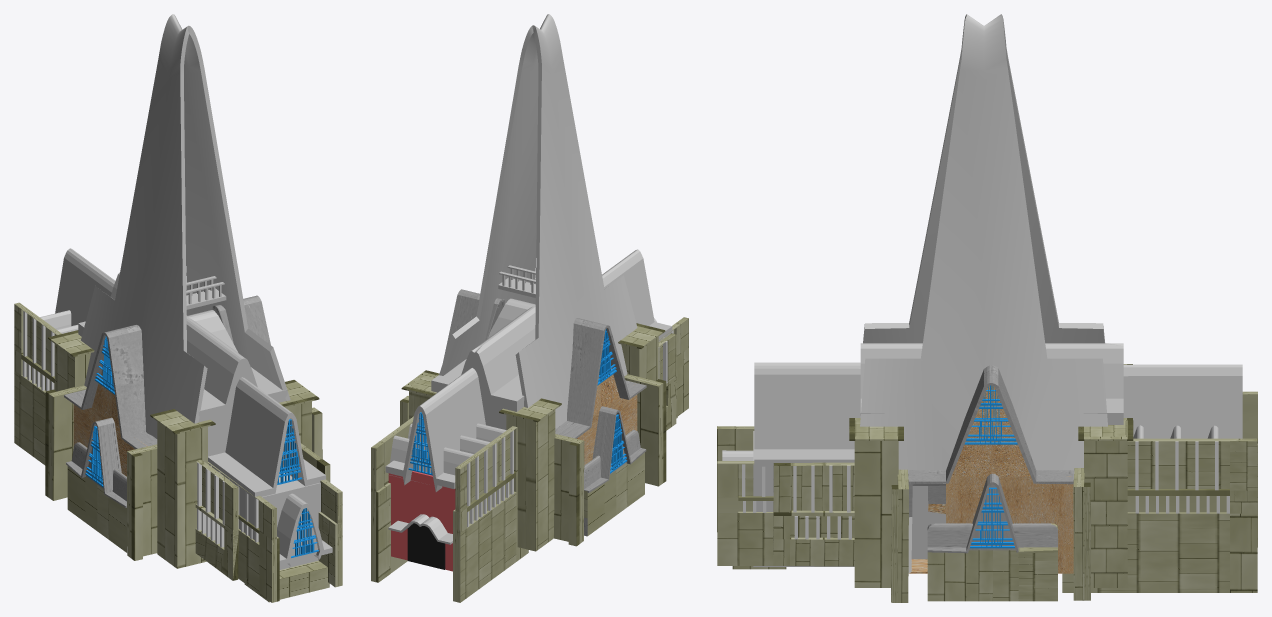
The model's file is Basilica.fbx.
3 views of the same model, side by side, from view 1: azimuth 30°, elevation 25°; view 2: azimuth 150°, elevation 25°; view 3: azimuth 270°, elevation 25° (orthographic). The views are drawn at different scales.
Parts seen in each view (by area): view 1: Circle.001, Cube.010, Cube.028, Cube.019, Cube.003, Cube.020, Cube.016, Cube.021, Cube.081, Cube.022, Cube.018, Cube.030 (+19 smaller); view 2: Circle.001, Cube.016, Cube.019, Cube.027, Cube.003, Cube.030, Cube.020, Cube, Cube.018, Cube.013, Cube.021, Cube.010 (+13 smaller); view 3: Circle.001, Cube.013, Cube.004, Cube.005, Cube.010, Cube.030, Cube.037, Cube.025, Cube.026, Cube.003, Cube.001, Cube.123 (+8 smaller).
Boxes of the visible parts, <box> form: Circle.001: <box>81,14,290,438</box>; Cube.010: <box>208,377,325,498</box>; Cube.028: <box>150,409,215,568</box>; Cube.019: <box>64,324,157,476</box>; Cube.003: <box>78,272,287,456</box>; Cube.020: <box>66,417,127,552</box>; Cube.016: <box>14,302,61,465</box>; Cube.021: <box>127,444,157,560</box>; Cube.081: <box>208,462,279,602</box>; Cube.022: <box>195,459,238,580</box>; Cube.018: <box>45,385,86,500</box>; Cube.030: <box>55,248,115,325</box>; Circle.001: <box>439,14,637,428</box>; Cube.016: <box>453,426,528,602</box>; Cube.019: <box>555,318,646,464</box>; Cube.027: <box>499,398,561,551</box>; Cube.003: <box>431,298,535,429</box>; Cube.030: <box>385,368,485,491</box>; Cube.020: <box>584,406,646,536</box>; Cube: <box>388,471,455,571</box>; Cube.018: <box>554,434,584,546</box>; Cube.013: <box>371,416,413,582</box>; Cube.021: <box>624,374,666,486</box>; Cube.010: <box>602,249,672,341</box>; Circle.001: <box>860,14,1107,485</box>; Cube.013: <box>1062,438,1257,592</box>; Cube.004: <box>908,365,1073,573</box>; Cube.005: <box>927,473,1057,601</box>; Cube.010: <box>754,362,860,466</box>; Cube.030: <box>1123,364,1242,438</box>; Cube.037: <box>773,462,854,566</box>; Cube.025: <box>849,418,903,587</box>; Cube.026: <box>1078,418,1133,587</box>; Cube.003: <box>860,343,1123,559</box>; Cube.001: <box>717,461,773,565</box>; Cube.123: <box>891,469,908,602</box>.
Bounding box in the file's own units: 420 × 1081 × 961.
